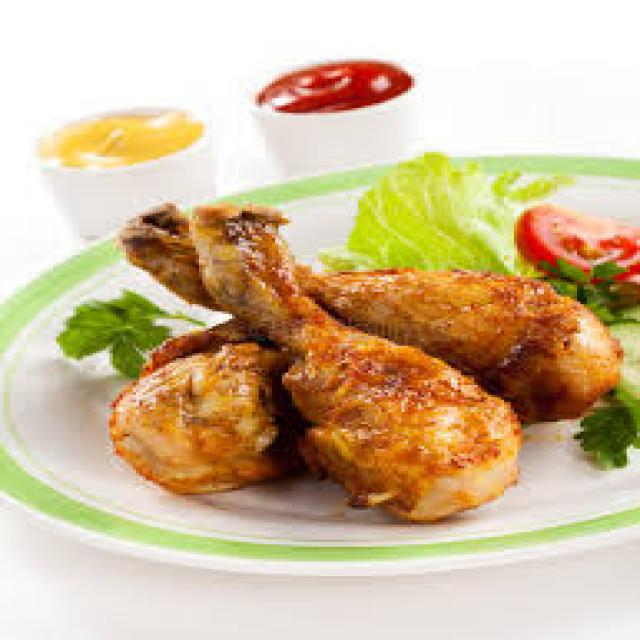Frango: (90, 189, 624, 517)
